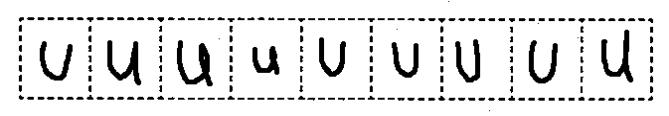U: (170, 36, 221, 92), (32, 36, 80, 89), (101, 36, 148, 90), (523, 37, 568, 89), (449, 35, 488, 90), (309, 29, 351, 80), (598, 28, 636, 84), (244, 40, 285, 82), (388, 34, 423, 82)
